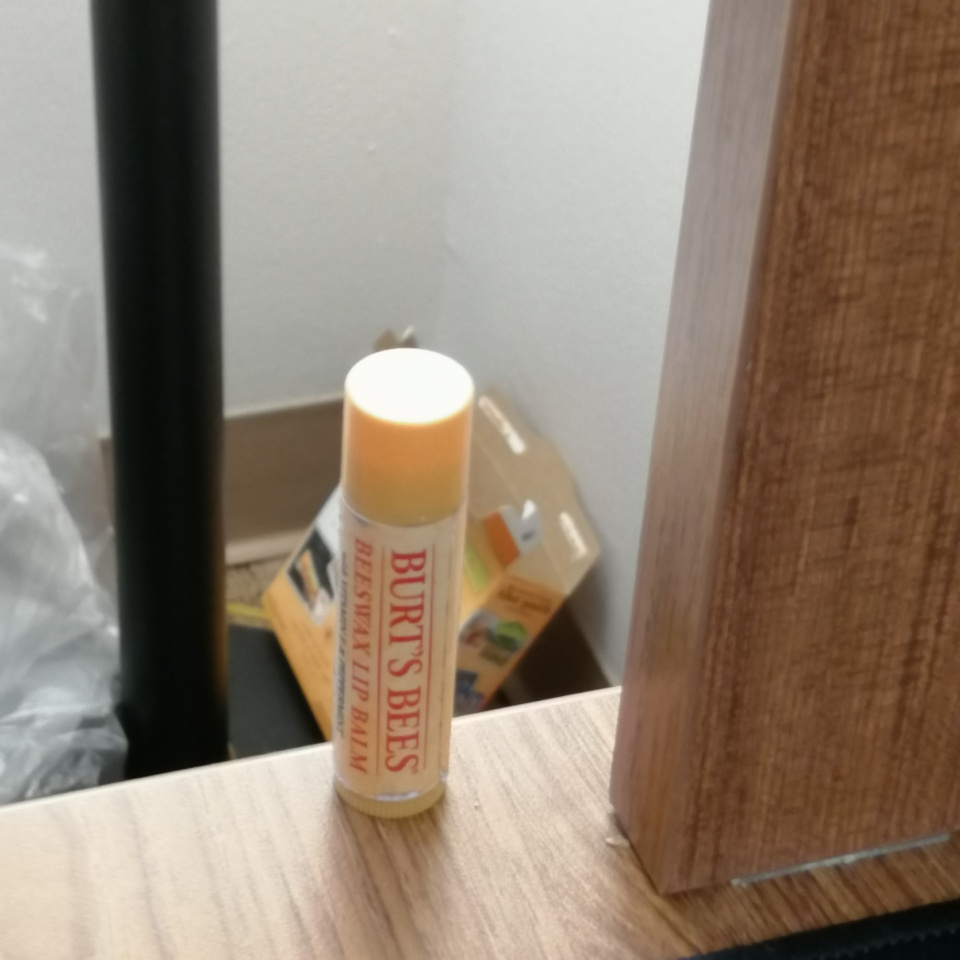chapstick: (331, 347, 477, 820)
